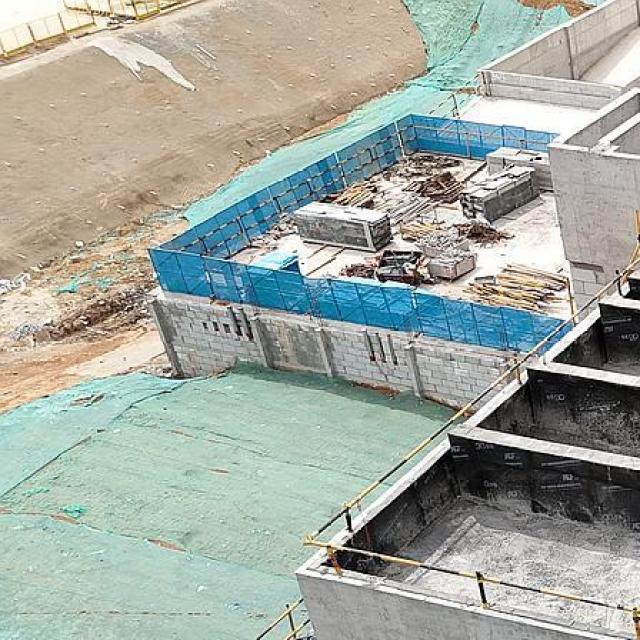Guardrail: (300, 255, 640, 640)
